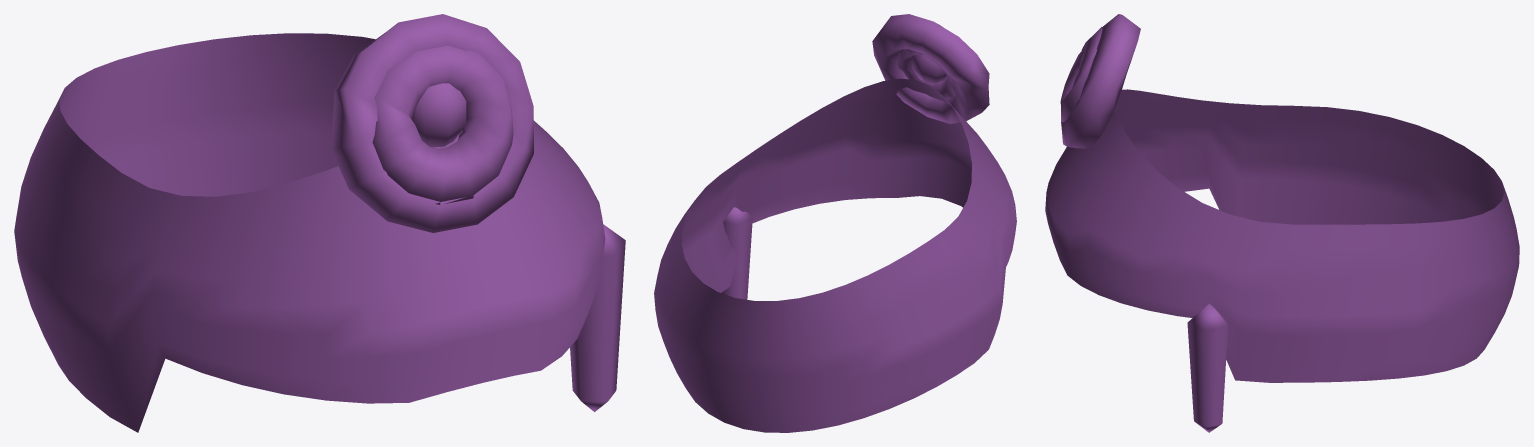
The model's file is headwrap_turban_f.glb.
The picture shows the model from 3 angles, left to right: view 1: azimuth 30°, elevation 25°; view 2: azimuth 150°, elevation 25°; view 3: azimuth 270°, elevation 25°; orthographic projection. The views are drawn at different scales.
Parts seen in each view (by area): view 1: hair; view 2: hair; view 3: hair.
Boxes of the visible parts, box(x1,y1,x2,y2) form: hair: box(14, 14, 625, 432); hair: box(654, 14, 1016, 432); hair: box(1045, 14, 1519, 432).
Bounding box in the file's own units: 0.2082 × 0.2021 × 0.2607.
